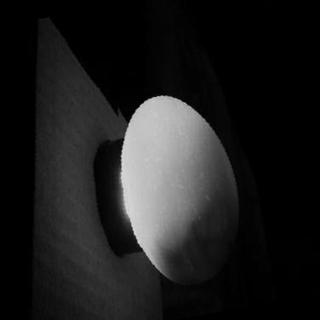telur: (119, 89, 243, 292)
